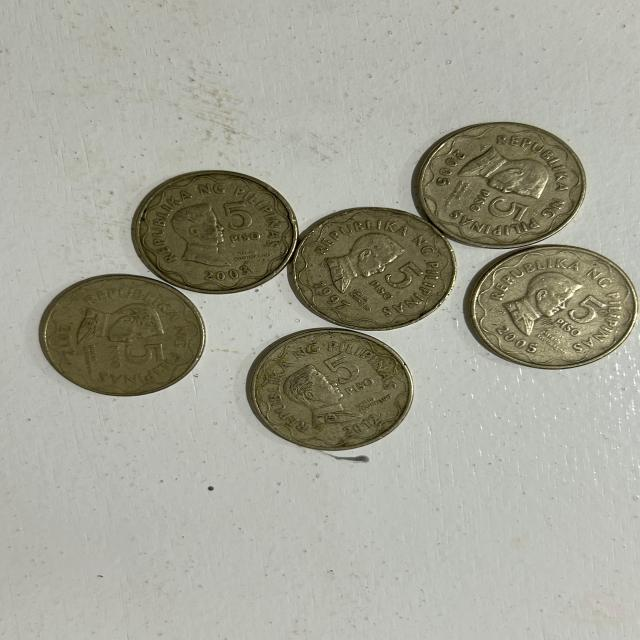5_Old_Front: (215, 196, 286, 250), (464, 186, 536, 232), (321, 348, 371, 405), (99, 337, 178, 372), (367, 258, 427, 303), (551, 296, 602, 339)
